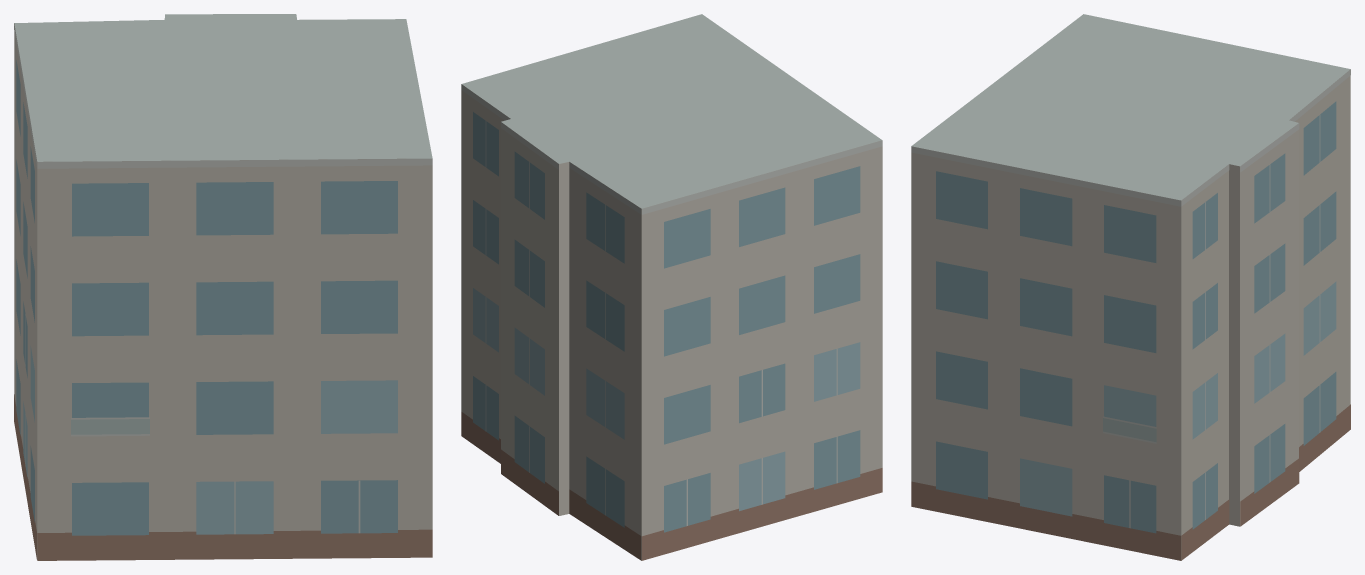
The model's file is survey-upis-33000447.glb.
3 views of the same model, side by side, from view 1: azimuth 30°, elevation 25°; view 2: azimuth 150°, elevation 25°; view 3: azimuth 270°, elevation 25° (orthographic). The views are drawn at different scales.
Visible parts, largest first — view 1: survey-upis-33000447.tmp; view 2: survey-upis-33000447.tmp; view 3: survey-upis-33000447.tmp.
Boxes of the visible parts, left/top/right/bottom form: survey-upis-33000447.tmp: left=14, top=14, right=432, bottom=560; survey-upis-33000447.tmp: left=461, top=14, right=882, bottom=560; survey-upis-33000447.tmp: left=911, top=14, right=1350, bottom=560.
Bounding box in the file's own units: 15.62 × 14.07 × 15.56.
